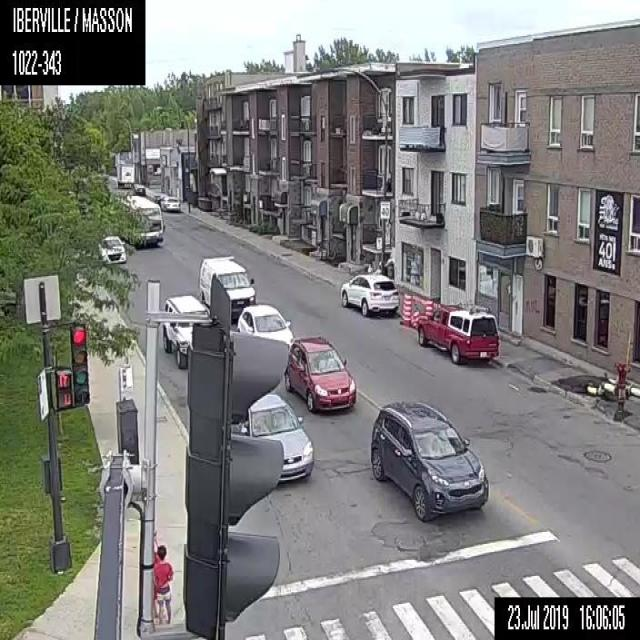bus: (114, 194, 164, 246)
construction: (551, 361, 628, 408), (400, 291, 412, 326), (424, 297, 434, 317), (411, 309, 421, 328)
pedestrian: (154, 542, 173, 622)
vehicle: (368, 400, 488, 523), (231, 391, 314, 481), (282, 334, 356, 415), (416, 296, 498, 364), (197, 252, 255, 326), (161, 294, 211, 369), (338, 271, 398, 317), (236, 304, 293, 348), (98, 235, 125, 263), (115, 163, 134, 189), (159, 196, 180, 212), (134, 184, 145, 196)
